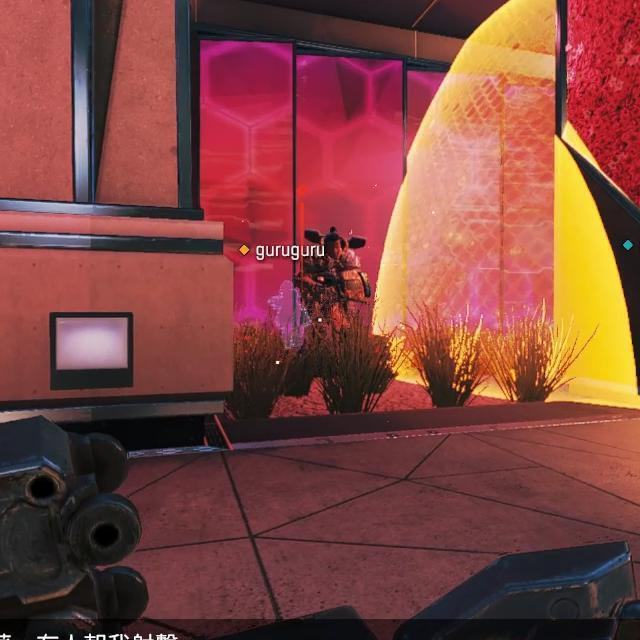avatar: (291, 225, 372, 325)
